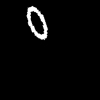chain: (27, 6, 46, 38)
